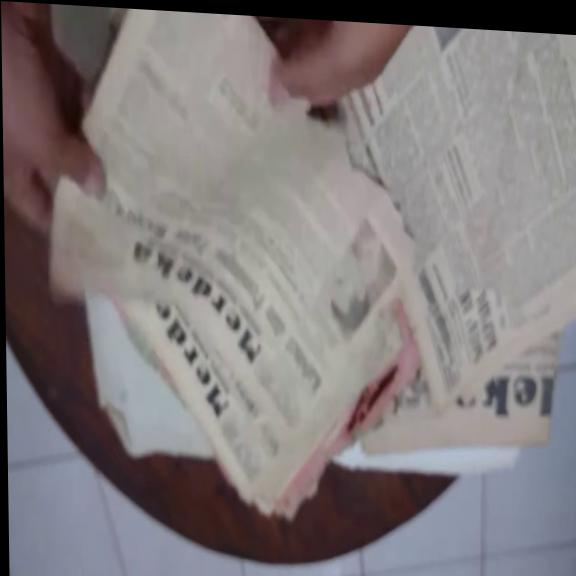Kertas: (50, 6, 432, 530), (336, 22, 576, 463)
